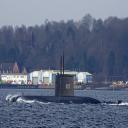submarine: (12, 54, 124, 106)
